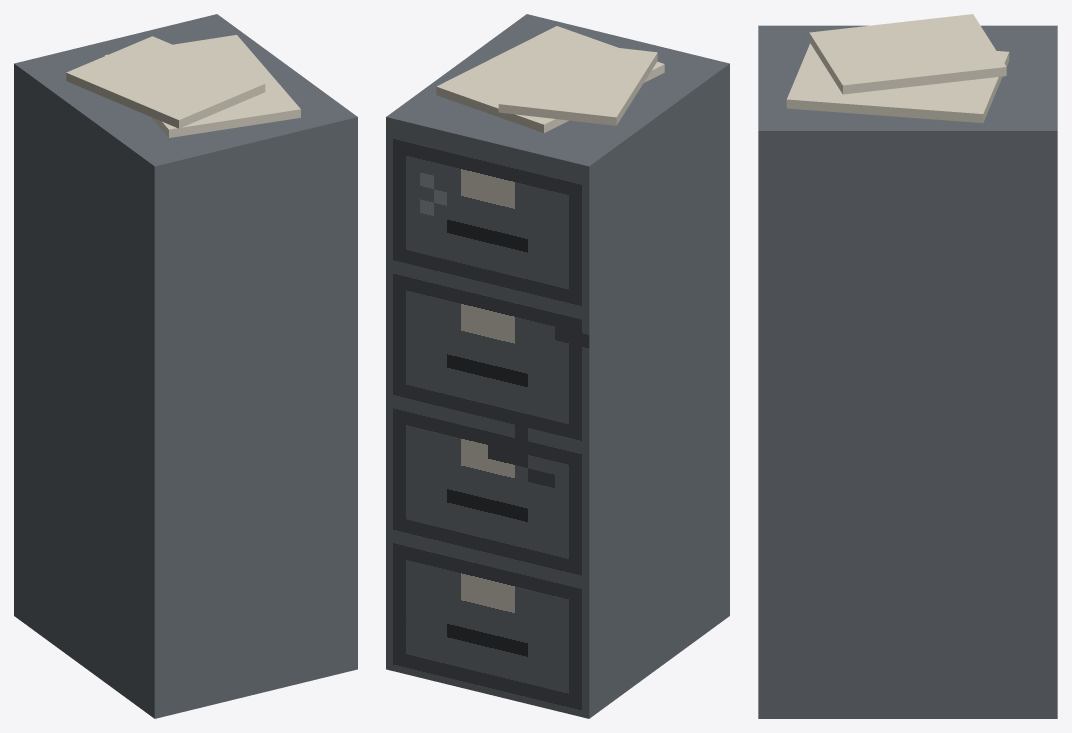
Rendered from filing.glb.
3 renders of one model, left to right at view 1: azimuth 30°, elevation 25°; view 2: azimuth 150°, elevation 25°; view 3: azimuth 270°, elevation 25°, orthographic. The views are drawn at different scales.
Visible parts, largest first — view 1: filing; view 2: filing; view 3: filing.
Part boxes in pixels (<box>): filing: <box>14,14,357,718</box>; filing: <box>386,14,729,718</box>; filing: <box>758,14,1057,718</box>.
Size of the model in its own units: 0.5 by 1.34 by 0.6.
Materials: 3 (3 with a texture image).
